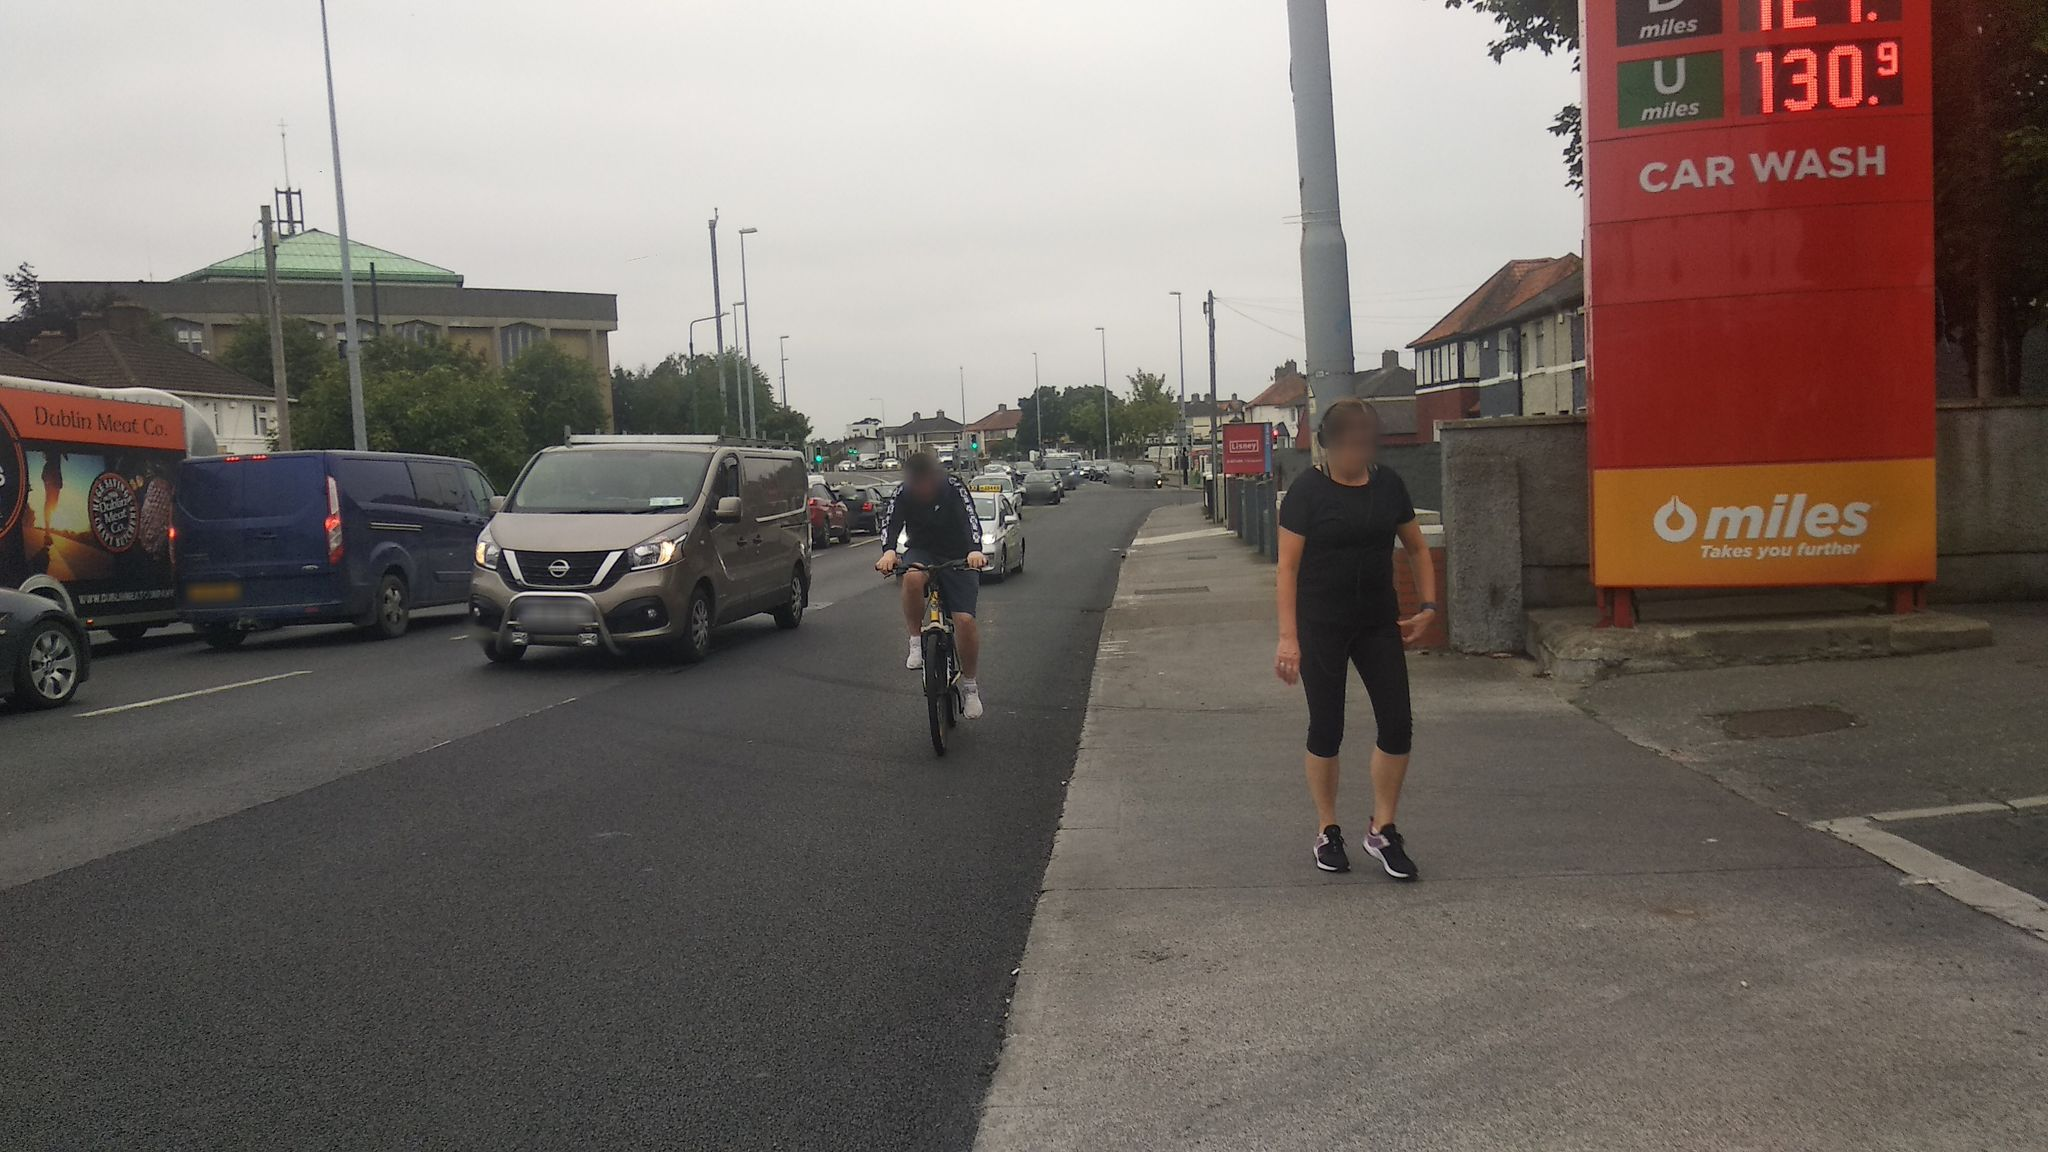property sign: (1212, 409, 1281, 491)
